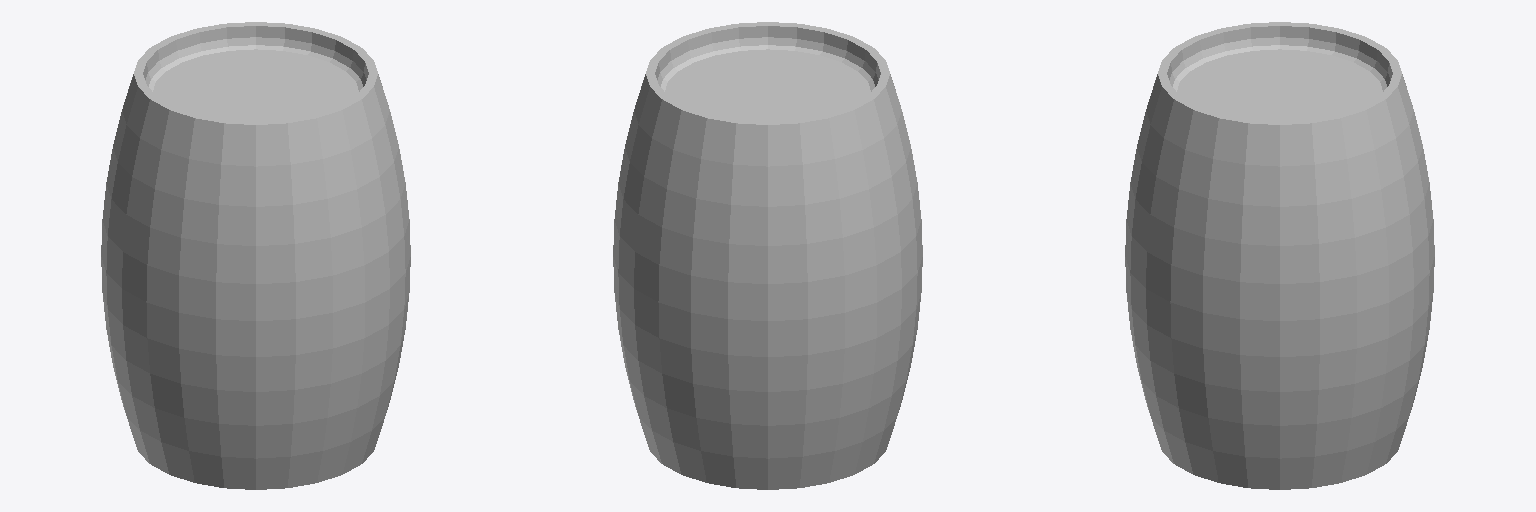
File: barrel.obj
3 renders of one model, left to right at view 1: azimuth 30°, elevation 25°; view 2: azimuth 150°, elevation 25°; view 3: azimuth 270°, elevation 25°, orthographic.
Parts seen in each view (by area): view 1: Cylinder; view 2: Cylinder; view 3: Cylinder.
Part boxes in pixels (bbox=[...]): Cylinder: bbox=[101, 22, 410, 489]; Cylinder: bbox=[613, 22, 922, 489]; Cylinder: bbox=[1125, 22, 1434, 489].
Bounding box in the file's own units: 1 × 1.3 × 1.